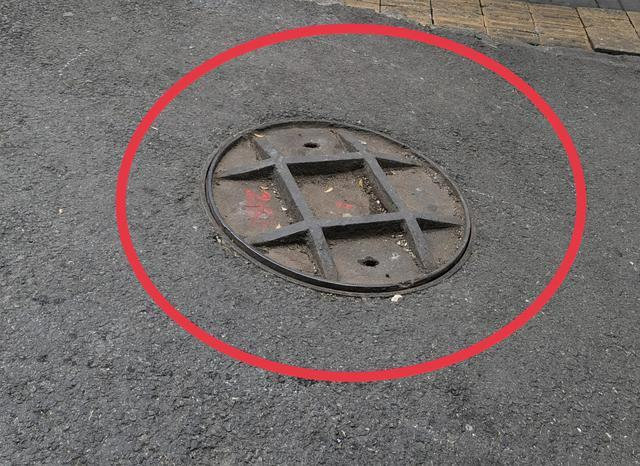good: (191, 108, 484, 304)
